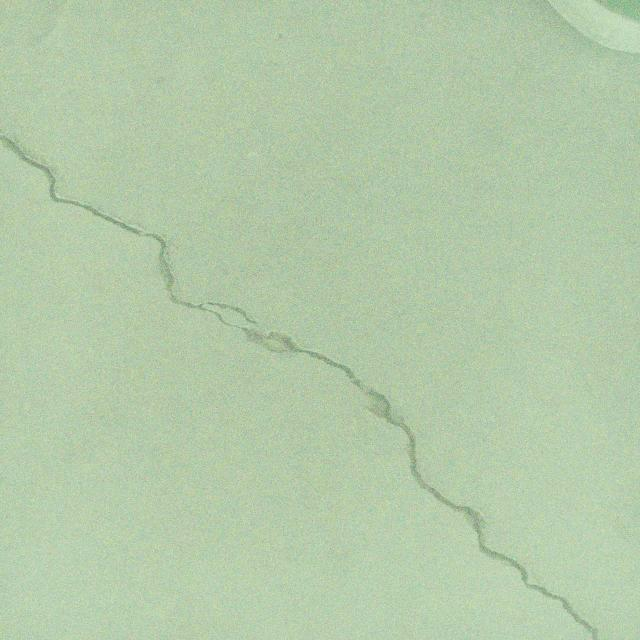crack: (0, 135, 599, 640)
